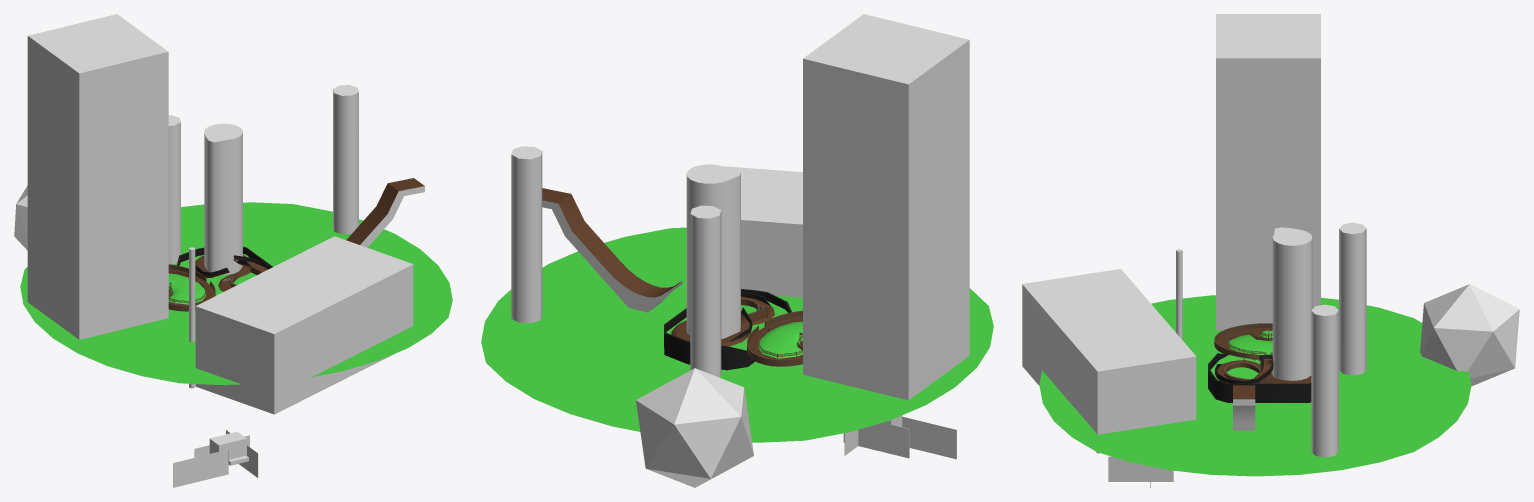
The model's file is level4.glb.
3 renders of one model, left to right at view 1: azimuth 30°, elevation 25°; view 2: azimuth 150°, elevation 25°; view 3: azimuth 270°, elevation 25°, orthographic. The views are drawn at different scales.
Visible parts, largest first — view 1: Cube.001-col.001, Cube.002, Plane, Cylinder.003-col, Cylinder.002, Cylinder.001, Cube.001-col.002, Cube.008, track2-col, floor-col.001, inner.grass-col, Cube.003-col.001 (+2 smaller); view 2: Cube.001-col.001, Plane, Icosphere, Cube.002, Cylinder.002, Cylinder.003-col, Cylinder.001, Cube.001-col.002, Cube.003-col.001, Cube.008, Cube.007-col, inner.grass-col (+3 smaller); view 3: Plane, Cube.001-col.001, Cube.002, Icosphere, Cylinder.003-col, Cylinder.001, Cylinder.002, Cube.003-col.001, Cube.009-col, Cube.001-col.002, track2-col, inner.grass-col (+2 smaller).
Part boxes in pixels (x1,y1,x2,y2): Cube.001-col.001: [27, 14, 168, 339]; Cube.002: [195, 236, 413, 414]; Plane: [20, 202, 452, 384]; Cylinder.003-col: [204, 123, 242, 275]; Cylinder.002: [333, 85, 358, 234]; Cylinder.001: [168, 115, 180, 264]; Cube.001-col.002: [293, 178, 424, 256]; Cube.008: [173, 450, 228, 487]; track2-col: [195, 255, 270, 291]; floor-col.001: [209, 431, 246, 459]; inner.grass-col: [168, 273, 205, 304]; Cube.003-col.001: [177, 246, 272, 295]; Cube.001-col.001: [803, 14, 969, 400]; Plane: [481, 227, 993, 442]; Icosphere: [636, 368, 753, 487]; Cube.002: [724, 166, 802, 297]; Cylinder.002: [511, 146, 542, 323]; Cylinder.003-col: [686, 164, 740, 338]; Cylinder.001: [690, 205, 721, 377]; Cube.001-col.002: [542, 188, 682, 312]; Cube.003-col.001: [664, 289, 791, 370]; Cube.008: [902, 416, 956, 459]; Cube.007-col: [843, 422, 909, 458]; inner.grass-col: [758, 321, 802, 358]; Plane: [1039, 295, 1471, 476]; Cube.001-col.001: [1216, 14, 1320, 330]; Cube.002: [1022, 269, 1196, 453]; Icosphere: [1420, 284, 1519, 386]; Cylinder.003-col: [1272, 227, 1312, 380]; Cylinder.001: [1339, 222, 1366, 375]; Cylinder.002: [1311, 304, 1338, 457]; Cube.003-col.001: [1208, 353, 1311, 402]; Cube.009-col: [1108, 456, 1173, 481]; Cube.001-col.002: [1233, 385, 1255, 430]; track2-col: [1215, 354, 1311, 383]; inner.grass-col: [1228, 334, 1272, 355].
Size of the model in its own units: 369 by 382 by 425.
